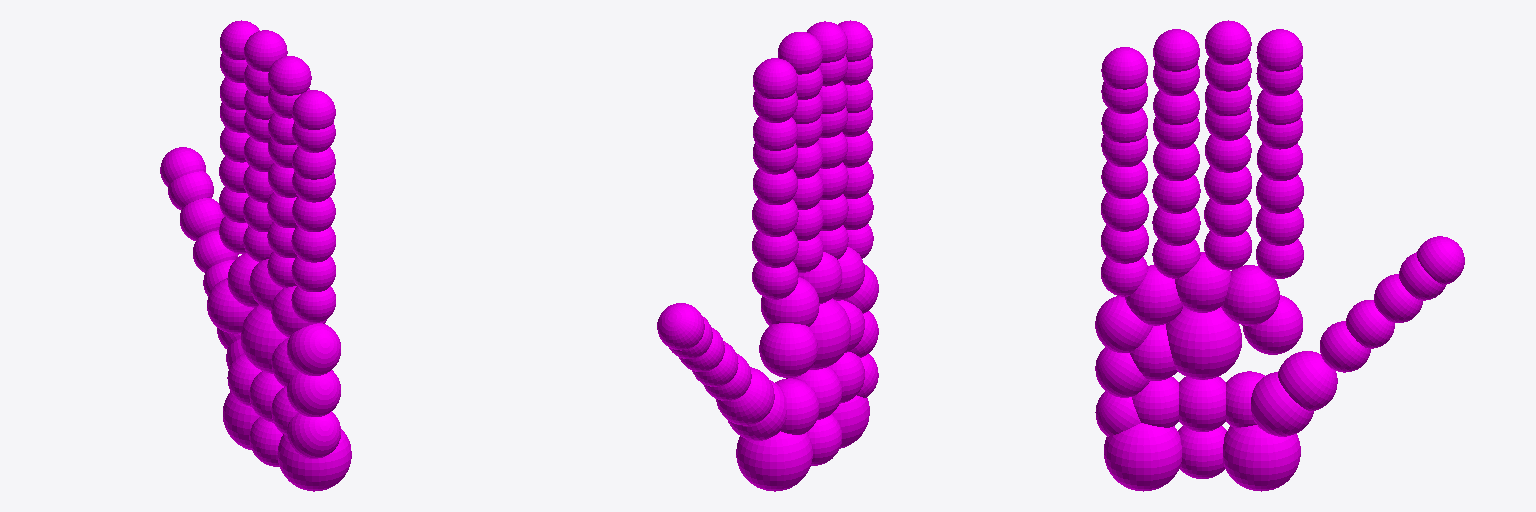
--- What the picture shows (computed from the rendered views, not written in the file) ---
3 views of the same robot in one strip: view 1: azimuth 30°, elevation 25°; view 2: azimuth 150°, elevation 25°; view 3: azimuth 270°, elevation 25° (orthographic).
Model shadow_right with 91 links and 90 joints (25 revolute, 3 prismatic, 62 fixed), rooted at base_link_x, posed all joints at 0.
Visible links, largest first — view 1: palm_collision_ball_1, lfmetacarpal_collision_ball_2, lfmetacarpal_collision_ball_0, lfmetacarpal_collision_ball_1, palm_collision_ball_2, palm_collision_ball_3, lfdistal_collision_ball_2, rfdistal_collision_ball_2, thdistal_collision_ball_0, mfdistal_collision_ball_2, lfproximal_collision_ball_0, lfproximal_collision_ball_2 (+28 smaller); view 2: palm_collision_ball_0, palm_collision_ball_3, palm_collision_ball_2, thproximal_collision_ball_1, palm_collision_ball_11, thdistal_collision_ball_2, palm_collision_ball_6, ffdistal_collision_ball_2, mfdistal_collision_ball_2, ffproximal_collision_ball_2, ffproximal_collision_ball_0, ffproximal_collision_ball_1 (+28 smaller); view 3: palm_collision_ball_2, palm_collision_ball_1, palm_collision_ball_0, palm_collision_ball_11, thproximal_collision_ball_1, thproximal_collision_ball_0, palm_collision_ball_5, palm_collision_ball_10, palm_collision_ball_9, lfmetacarpal_collision_ball_2, palm_collision_ball_3, palm_collision_ball_4 (+28 smaller).
Link boxes in pixels (<box>): palm_collision_ball_1: <box>277,429,351,491</box>; lfmetacarpal_collision_ball_2: <box>287,323,340,375</box>; lfmetacarpal_collision_ball_0: <box>287,411,340,458</box>; lfmetacarpal_collision_ball_1: <box>287,370,340,416</box>; palm_collision_ball_2: <box>241,305,287,373</box>; palm_collision_ball_3: <box>207,278,253,333</box>; lfdistal_collision_ball_2: <box>292,90,335,129</box>; rfdistal_collision_ball_2: <box>268,56,311,95</box>; thdistal_collision_ball_0: <box>180,198,224,240</box>; mfdistal_collision_ball_2: <box>244,30,287,71</box>; lfproximal_collision_ball_0: <box>291,286,335,322</box>; lfproximal_collision_ball_2: <box>291,226,335,262</box>; palm_collision_ball_0: <box>736,431,812,491</box>; palm_collision_ball_3: <box>759,323,817,377</box>; palm_collision_ball_2: <box>809,298,850,369</box>; thproximal_collision_ball_1: <box>716,367,774,425</box>; palm_collision_ball_11: <box>761,277,819,326</box>; thdistal_collision_ball_2: <box>657,303,704,350</box>; palm_collision_ball_6: <box>775,378,819,434</box>; ffdistal_collision_ball_2: <box>753,58,797,98</box>; mfdistal_collision_ball_2: <box>778,32,822,74</box>; ffproximal_collision_ball_2: <box>752,199,798,236</box>; ffproximal_collision_ball_0: <box>752,261,798,299</box>; ffproximal_collision_ball_1: <box>752,230,798,267</box>; palm_collision_ball_2: <box>1166,307,1241,379</box>; palm_collision_ball_1: <box>1104,423,1181,491</box>; palm_collision_ball_0: <box>1223,425,1300,491</box>; palm_collision_ball_11: <box>1221,265,1279,325</box>; thproximal_collision_ball_1: <box>1278,351,1337,410</box>; thproximal_collision_ball_0: <box>1251,371,1313,436</box>; palm_collision_ball_5: <box>1179,377,1225,431</box>; palm_collision_ball_10: <box>1175,252,1230,312</box>; palm_collision_ball_9: <box>1125,265,1182,325</box>; lfmetacarpal_collision_ball_2: <box>1095,296,1152,352</box>; palm_collision_ball_3: <box>1242,295,1302,354</box>; palm_collision_ball_4: <box>1178,426,1226,478</box>.
Bounding box of the posed robot: 0.0406 × 0.1573 × 0.216 m (x, y, z).
0 mesh visuals loaded from 8 distinct referenced files (none loaded); not drawn: 20 (reference not matched to a file when rendering).

robot.urdf — shadow_right:
<robot name="shadow_right">
  <link name="base_link_x"/>

  <joint name="dummy_x_translation_joint" type="prismatic">
    <parent link="base_link_x"/>
    <child link="base_link_y"/>
    <origin rpy="0 0 0" xyz="0 0 0"/>
    <axis xyz="1 0 0"/>
    <limit effort="300" lower="-10" upper="10" velocity="2.1750"/>
  </joint>

  <link name="base_link_y"/>

  <joint name="dummy_y_translation_joint" type="prismatic">
    <parent link="base_link_y"/>
    <child link="base_link_z"/>
    <origin rpy="0 0 0" xyz="0 0 0"/>
    <axis xyz="0 1 0"/>
    <limit effort="300" lower="-10" upper="10" velocity="2.1750"/>
  </joint>

  <link name="base_link_z"/>

  <joint name="dummy_z_translation_joint" type="prismatic">
    <parent link="base_link_z"/>
    <child link="base_link_roll"/>
    <origin rpy="0 0 0" xyz="0 0 0"/>
    <axis xyz="0 0 1"/>
    <limit effort="300" lower="-10" upper="10" velocity="2.1750"/>
  </joint>

  <link name="base_link_roll"/>

  <joint name="dummy_x_rotation_joint" type="revolute">
    <parent link="base_link_roll"/>
    <child link="base_link_pitch"/>
    <origin rpy="0 0 0" xyz="0 0 0"/>
    <axis xyz="1 0 0"/>
    <limit effort="100.95" velocity="108.48" lower="-6.283185" upper="6.283185"/>
  </joint>

  <link name="base_link_pitch"/>

  <joint name="dummy_y_rotation_joint" type="revolute">
    <parent link="base_link_pitch"/>
    <child link="base_link_yaw"/>
    <origin rpy="0 0 0" xyz="0 0 0"/>
    <axis xyz="0 1 0"/>
    <limit effort="100.95" velocity="108.48" lower="-6.283185" upper="6.283185"/>
  </joint>

  <link name="base_link_yaw"/>

  <joint name="dummy_z_rotation_joint" type="revolute">
    <parent link="base_link_yaw"/>
    <child link="world"/>
    <origin rpy="0 0 0" xyz="0 0 0"/>
    <axis xyz="0 0 1"/>
    <limit effort="100.95" velocity="108.48" lower="-6.283185" upper="6.283185"/>
  </joint>
  
  <link name="world"/>
  <joint name="world_joint" type="fixed">
    <parent link="world"/>
    <child link="palm"/>
    <origin rpy="0.0 0.0 1.57079" xyz="0.0 0.0 0.0"/>
  </joint>

  <link name="palm">
    <inertial>
      <origin rpy="0 0 0" xyz="0 0 0.035"/>
      <mass value="0.3"/>
      <inertia ixx="0.0003581" ixy="0.0" ixz="0.0" iyy="0.0005287" iyz="0.0" izz="0.000191"/>
    </inertial>
    <!-- <visual>
      <origin rpy="0 0 0" xyz="0 0 0"/>
      <geometry name="palm_visual">
        <mesh filename="meshes/visual/palm_E3M5.obj" scale="0.001 0.001 0.001"/>
      </geometry>
    </visual> -->
    <collision>
      <origin rpy="0 0 0" xyz="0.011 0.0085 0.042"/>
      <geometry name="palm_collision_geom">
        <box size="0.062 0.007 0.090"/>
      </geometry>
    </collision>
    <collision>
      <origin rpy="0 0 0" xyz="-0.002 -0.0035 0.042"/>
      <geometry>
        <box size="0.036 0.017 0.090"/>
      </geometry>
    </collision>
    <!-- palm complement below first finger -->
    <collision>
      <origin rpy="0 0 0" xyz="0.029 -0.0035 0.082"/>
      <geometry>
        <box size="0.026 0.017 0.010"/>
      </geometry>
    </collision>
    <collision>
      <origin rpy="0.2 0 0.25" xyz="0.0265 -0.001 0.070"/>
      <geometry>
        <box size="0.026 0.014 0.018"/>
      </geometry>
    </collision>
    <!-- thumb pulp side -->
    <collision>
      <origin rpy="0 0 0" xyz="0.0315 -0.0085 0.005"/>
      <geometry>
        <box size="0.021 0.027 0.016"/>
      </geometry>
    </collision>
    <!-- thumb pulp central -->
    <collision>
      <origin rpy="0 0 -0.48" xyz="0.0125 -0.015 0.013"/>
      <geometry>
        <box size="0.022 0.005 0.032"/>
      </geometry>
    </collision>
    <!-- above middle finger-->
    <collision>
      <origin rpy="0 0 0" xyz="0.011 0 0.089"/>
      <geometry>
        <box size="0.018 0.024 0.004"/>
      </geometry>
    </collision>
    <!-- metacarpal side-->
    <collision>
      <origin rpy="0 0 0" xyz="-0.03 0 0.013"/>
      <geometry>
        <box size="0.020 0.024 0.032"/>
      </geometry>
    </collision>
  </link>

  <!-- balls -->

  <link name="palm_collision_ball_0">
    <visual>
    <geometry>
    <sphere radius="0.017"/>
    </geometry>
    <material name="purple">
    <color rgba="1.0 0.0 1.0 1.0"/>
    </material>
    </visual>
    <collision>
    <geometry>
    <sphere radius="0.017"/>
    </geometry>
    </collision>
  </link>
  <joint name="palm_collision_ball_0_joint" type="fixed">
    <parent link="palm"/>
    <child link="palm_collision_ball_0"/>
    <origin rpy="0 0 0" xyz="0.025 -0.005 0.005 "/>
  </joint>

  <link name="palm_collision_ball_1">
    <visual>
    <geometry>
    <sphere radius="0.017"/>
    </geometry>
    <material name="purple">
    <color rgba="1.0 0.0 1.0 1.0"/>
    </material>
    </visual>
    <collision>
    <geometry>
    <sphere radius="0.017"/>
    </geometry>
    </collision>
  </link>
  <joint name="palm_collision_ball_1_joint" type="fixed">
    <parent link="palm"/>
    <child link="palm_collision_ball_1"/>
    <origin rpy="0 0 0" xyz="-0.025 -0.005 0.005 "/>
  </joint>

  <link name="palm_collision_ball_2">
    <visual>
    <geometry>
    <sphere radius="0.017"/>
    </geometry>
    <material name="purple">
    <color rgba="1.0 0.0 1.0 1.0"/>
    </material>
    </visual>
    <collision>
    <geometry>
    <sphere radius="0.017"/>
    </geometry>
    </collision>
  </link>
  <joint name="palm_collision_ball_2_joint" type="fixed">
    <parent link="palm"/>
    <child link="palm_collision_ball_2"/>
    <origin rpy="0 0 0" xyz="0.0 0.0 0.055 "/>
  </joint> 

  <link name="palm_collision_ball_3">
    <visual>
    <geometry>
    <sphere radius="0.013"/>
    </geometry>
    <material name="purple">
    <color rgba="1.0 0.0 1.0 1.0"/>
    </material>
    </visual>
    <collision>
    <geometry>
    <sphere radius="0.013"/>
    </geometry>
    </collision>
  </link>
  <joint name="palm_collision_ball_3_joint" type="fixed">
    <parent link="palm"/>
    <child link="palm_collision_ball_3"/>
    <origin rpy="0 0 0" xyz="0.03 0.005 0.06 "/>
  </joint>

  <link name="palm_collision_ball_4">
    <visual>
    <geometry>
    <sphere radius="0.013"/>
    </geometry>
    <material name="purple">
    <color rgba="1.0 0.0 1.0 1.0"/>
    </material>
    </visual>
    <collision>
    <geometry>
    <sphere radius="0.013"/>
    </geometry>
    </collision>
  </link>
  <joint name="palm_collision_ball_4_joint" type="fixed">
    <parent link="palm"/>
    <child link="palm_collision_ball_4"/>
    <origin rpy="0 0 0" xyz="0.0 0.0 0.004 "/>
  </joint>

  <link name="palm_collision_ball_5">
    <visual>
    <geometry>
    <sphere radius="0.013"/>
    </geometry>
    <material name="purple">
    <color rgba="1.0 0.0 1.0 1.0"/>
    </material>
    </visual>
    <collision>
    <geometry>
    <sphere radius="0.013"/>
    </geometry>
    </collision>
  </link>
  <joint name="palm_collision_ball_5_joint" type="fixed">
    <parent link="palm"/>
    <child link="palm_collision_ball_5"/>
    <origin rpy="0 0 0" xyz="0.0 0.0 0.026 "/>
  </joint>

  <link name="palm_collision_ball_6">
    <visual>
    <geometry>
    <sphere radius="0.013"/>
    </geometry>
    <material name="purple">
    <color rgba="1.0 0.0 1.0 1.0"/>
    </material>
    </visual>
    <collision>
    <geometry>
    <sphere radius="0.013"/>
    </geometry>
    </collision>
  </link>
  <joint name="palm_collision_ball_6_joint" type="fixed">
    <parent link="palm"/>
    <child link="palm_collision_ball_6"/>
    <origin rpy="0 0 0" xyz="0.02 0.0 0.026 "/>
  </joint>

  <link name="palm_collision_ball_7">
    <visual>
    <geometry>
    <sphere radius="0.013"/>
    </geometry>
    <material name="purple">
    <color rgba="1.0 0.0 1.0 1.0"/>
    </material>
    </visual>
    <collision>
    <geometry>
    <sphere radius="0.013"/>
    </geometry>
    </collision>
  </link>
  <joint name="palm_collision_ball_7_joint" type="fixed">
    <parent link="palm"/>
    <child link="palm_collision_ball_7"/>
    <origin rpy="0 0 0" xyz="-0.02 0.0 0.026 "/>
  </joint>

  <link name="palm_collision_ball_8">
    <visual>
    <geometry>
    <sphere radius="0.013"/>
    </geometry>
    <material name="purple">
    <color rgba="1.0 0.0 1.0 1.0"/>
    </material>
    </visual>
    <collision>
    <geometry>
    <sphere radius="0.013"/>
    </geometry>
    </collision>
  </link>
  <joint name="palm_collision_ball_8_joint" type="fixed">
    <parent link="palm"/>
    <child link="palm_collision_ball_8"/>
    <origin rpy="0 0 0" xyz="-0.02 0.0 0.05"/>
  </joint>

  <link name="palm_collision_ball_9">
    <visual>
    <geometry>
    <sphere radius="0.013"/>
    </geometry>
    <material name="purple">
    <color rgba="1.0 0.0 1.0 1.0"/>
    </material>
    </visual>
    <collision>
    <geometry>
    <sphere radius="0.013"/>
    </geometry>
    </collision>
  </link>
  <joint name="palm_collision_ball_9_joint" type="fixed">
    <parent link="palm"/>
    <child link="palm_collision_ball_9"/>
    <origin rpy="0 0 0" xyz="-0.02 0.0 0.076"/>
  </joint>

  <link name="palm_collision_ball_10">
    <visual>
    <geometry>
    <sphere radius="0.013"/>
    </geometry>
    <material name="purple">
    <color rgba="1.0 0.0 1.0 1.0"/>
    </material>
    </visual>
    <collision>
    <geometry>
    <sphere radius="0.013"/>
    </geometry>
    </collision>
  </link>
  <joint name="palm_collision_ball_10_joint" type="fixed">
    <parent link="palm"/>
    <child link="palm_collision_ball_10"/>
    <origin rpy="0 0 0" xyz="0.0 0.0 0.082"/>
  </joint>

  <link name="palm_collision_ball_11">
    <visual>
    <geometry>
    <sphere radius="0.013"/>
    </geometry>
    <material name="purple">
    <color rgba="1.0 0.0 1.0 1.0"/>
    </material>
    </visual>
    <collision>
    <geometry>
    <sphere radius="0.013"/>
    </geometry>
    </collision>
  </link>
  <joint name="palm_collision_ball_11_joint" type="fixed">
    <parent link="palm"/>
    <child link="palm_collision_ball_11"/>
    <origin rpy="0 0 0" xyz="0.02 0.0 0.076"/>
  </joint>

  <joint name="ee_fixed_joint" type="fixed">
    <parent link="palm"/>
    <child link="ee_link"/>
    <origin rpy="0.0 0.0 -1.57079" xyz="0.0 0.0 0.0"/>
  </joint>
  <link name="ee_link"/>
  
  <link name="imu"/>
  <joint name="palm_to_imu" type="fixed">
    <parent link="palm"/>
    <child link="imu"/>
    <origin rpy="-1.5707963 3.141592 0.0" xyz="0.01785 0.00765 0.049125"/>
  </joint>
  <link name="ffknuckle">
    <inertial>
      <origin rpy="0 0 0" xyz="0 0 0"/>
      <mass value="0.008"/>
      <inertia ixx="0.00000026" ixy="0.0" ixz="0.0" iyy="0.00000026" iyz="0.0" izz="0.00000032"/>
    </inertial>
    <visual>
      <origin rpy="0 0 0" xyz="0 0 0.0005"/>
      <geometry name="ffknuckle_visual">
        <mesh filename="meshes/visual/f_knuckle_E3M5.obj" scale="0.001 0.001 0.001"/>
      </geometry>
    </visual>
    <collision>
      <geometry name="ffknuckle_visual">
        <mesh filename="meshes/collision/f_knuckle_E3M5.obj"/>
      </geometry>
    </collision>
  </link>
  <joint name="FFJ4" type="revolute">
    <parent link="palm"/>
    <child link="ffknuckle"/>
    <origin rpy="0 0 0" xyz="0.033 0 0.095"/>
    <axis xyz="0 -1 0"/>
    <limit effort="2" lower="-0.349065850399" upper="0.349065850399" velocity="2.0"/>
    <dynamics damping="0.1"/>
  </joint>
  <link name="ffproximal">
    <inertial>
      <mass value="0.030"/>
      <origin xyz="0 0 0.0225"/>
      <inertia ixx="0.0000098" ixy="0.0" ixz="0.0" iyy="0.00001" iyz="0.0" izz="0.0000018"/>
    </inertial>
    <visual>
      <origin rpy="0 0 0" xyz="0 0 0"/>
      <geometry name="ffproximal_visual">
        <mesh filename="meshes/visual/f_proximal_E3M5.obj" scale="0.001 0.001 0.001"/>
      </geometry>
    </visual>
    <collision>
      <origin rpy="0 0 0" xyz="0 0 0.025"/>
      <geometry name="ffproximal_collision_geom">
        <cylinder length="0.040" radius="0.007"/>
      </geometry>
    </collision>
  </link>

  <!-- balls -->

  <link name="ffproximal_collision_ball_0">
    <visual>
    <geometry>
    <sphere radius="0.0103"/>
    </geometry>
    <material name="purple">
    <color rgba="1.0 0.0 1.0 1.0"/>
    </material>
    </visual>
    <collision>
    <geometry>
    <sphere radius="0.0103"/>
    </geometry>
    </collision>
  </link>
  <joint name="ffproximal_collision_ball_0_joint" type="fixed">
    <parent link="ffproximal"/>
    <child link="ffproximal_collision_ball_0"/>
    <origin rpy="0 0 0" xyz="0.0 0.0 0.0 "/>
  </joint>

  <link name="ffproximal_collision_ball_1">
    <visual>
    <geometry>
    <sphere radius="0.0103"/>
    </geometry>
    <material name="purple">
    <color rgba="1.0 0.0 1.0 1.0"/>
    </material>
    </visual>
    <collision>
    <geometry>
    <sphere radius="0.0103"/>
    </geometry>
    </collision>
  </link>
  <joint name="ffproximal_collision_ball_1_joint" type="fixed">
    <parent link="ffproximal"/>
    <child link="ffproximal_collision_ball_1"/>
    <origin rpy="0 0 0" xyz="0.0 0.0 0.015 "/>
  </joint>

  <link name="ffproximal_collision_ball_2">
    <visual>
    <geometry>
    <sphere radius="0.0103"/>
    </geometry>
    <material name="purple">
    <color rgba="1.0 0.0 1.0 1.0"/>
    </material>
    </visual>
    <collision>
    <geometry>
    <sphere radius="0.0103"/>
    </geometry>
    </collision>
  </link>
  <joint name="ffproximal_collision_ball_2_joint" type="fixed">
    <parent link="ffproximal"/>
    <child link="ffproximal_collision_ball_2"/>
    <origin rpy="0 0 0" xyz="0.0 0.0 0.03 "/>
  </joint>

  <joint name="FFJ3" type="revolute">
    <parent link="ffknuckle"/>
    <child link="ffproximal"/>
    <origin rpy="0 0 0" xyz="0 0 0"/>
    <axis xyz="1 0 0"/>
    <limit effort="2" lower="-0.261799387799" upper="1.57079632679" velocity="2.0"/>
    <dynamics damping="0.1"/>
  </joint>
  <link name="ffmiddle">
    <inertial>
      <origin rpy="0 0 0" xyz="0 0 0.0125"/>
      <mass value="0.017"/>
      <inertia ixx="0.0000026" ixy="0.0" ixz="0.0" iyy="0.0000027" iyz="0.0" izz="0.00000087"/>
    </inertial>
    <visual>
      <origin rpy="0 0 0" xyz="0 0 0"/>
      <geometry name="ffmiddle_visual">
        <mesh filename="meshes/visual/f_middle_E3M5.obj" scale="0.001 0.001 0.001"/>
      </geometry>
    </visual>
    <collision>
      <origin rpy="0 0 0" xyz="0 0 0.0125"/>
      <geometry name="ffmiddle_collision_geom">
        <cylinder length="0.025" radius="0.007"/>
      </geometry>
    </collision>
    <collision>
      <origin rpy="0 0 0" xyz="0 0 0.0"/>
      <geometry>
        <sphere radius="0.007"/>
      </geometry>
    </collision>
    <collision>
      <origin rpy="0 0 0" xyz="0 0 0.025"/>
      <geometry>
        <sphere radius="0.007"/>
      </geometry>
    </collision>
  </link>

  <!-- balls -->

  <link name="ffmiddle_collision_ball_0">
    <visual>
    <geometry>
    <sphere radius="0.010"/>
    </geometry>
    <material name="purple">
    <color rgba="1.0 0.0 1.0 1.0"/>
    </material>
    </visual>
    <collision>
    <geometry>
    <sphere radius="0.010"/>
    </geometry>
    </collision>
  </link>
  <joint name="ffmiddle_collision_ball_0_joint" type="fixed">
    <parent link="ffmiddle"/>
    <child link="ffmiddle_collision_ball_0"/>
    <origin rpy="0 0 0" xyz="0.0 0.0 0.0 "/>
  </joint>

  <link name="ffmiddle_collision_ball_1">
    <visual>
    <geometry>
    <sphere radius="0.010"/>
    </geometry>
    <material name="purple">
    <color rgba="1.0 0.0 1.0 1.0"/>
    </material>
    </visual>
    <collision>
    <geometry>
    <sphere radius="0.010"/>
    </geometry>
    </collision>
  </link>
  <joint name="ffmiddle_collision_ball_1_joint" type="fixed">
    <parent link="ffmiddle"/>
    <child link="ffmiddle_collision_ball_1"/>
    <origin rpy="0 0 0" xyz="0.0 0.0 0.015 "/>
  </joint>

  <joint name="FFJ2" type="revolute">
    <parent link="ffproximal"/>
    <child link="ffmiddle"/>
    <origin rpy="0 0 0" xyz="0 0 0.045"/>
    <axis xyz="1 0 0"/>
    <limit effort="2" lower="0" upper="1.57079632679" velocity="2.0"/>
    <dynamics damping="0.1"/>
  </joint>
  <link name="ffdistal">
    <!--    inertial and mass is enlarged by 10 times to fix the position drive issue in Physx simulation, used in IsaacGym and SAPIEN-->
    <inertial>
      <mass value="0.12"/>
      <origin xyz="0 0 0.012"/>
      <inertia ixx="0.0000094" ixy="0.0" ixz="0.0" iyy="0.000011" iyz="0.0" izz="0.0000053"/>
    </inertial>
    <visual>
      <origin rpy="0 0 0" xyz="0 0 0"/>
      <geometry name="ffdistal_visual">
        <mesh filename="meshes/visual/f_distal_pst.obj" scale="0.001 0.001 0.001"/>
      </geometry>
    </visual>
    <collision>
      <origin rpy="0 0 0" xyz="0 0 0"/>
      <geometry name="ffdistal_collision_geom">
        <mesh filename="meshes/visual/f_distal_pst.obj" scale="0.001 0.001 0.001"/>
      </geometry>
    </collision>
  </link>

  <!-- balls -->

  <link name="ffdistal_collision_ball_0">
    <visual>
    <geometry>
    <sphere radius="0.010"/>
    </geometry>
    <material name="purple">
    <color rgba="1.0 0.0 1.0 1.0"/>
    </material>
    </visual>
    <collision>
    <geometry>
    <sphere radius="0.010"/>
    </geometry>
    </collision>
  </link>
  <joint name="ffdistal_collision_ball_0_joint" type="fixed">
    <parent link="ffdistal"/>
    <child link="ffdistal_collision_ball_0"/>
    <origin rpy="0 0 0" xyz="0.0 0.0 0.0 "/>
  </joint>

  <link name="ffdistal_collision_ball_1">
    <visual>
    <geometry>
    <sphere radius="0.010"/>
    </geometry>
    <material name="purple">
    <color rgba="1.0 0.0 1.0 1.0"/>
    </material>
    </visual>
    <collision>
    <geometry>
    <sphere radius="0.010"/>
    </geometry>
    </collision>
  </link>
  <joint name="ffdistal_collision_ball_1_joint" type="fixed">
    <parent link="ffdistal"/>
    <child link="ffdistal_collision_ball_1"/>
    <origin rpy="0 0 0" xyz="0.0 0.0 0.015 "/>
  </joint>

  <link name="ffdistal_collision_ball_2">
    <visual>
    <geometry>
    <sphere radius="0.010"/>
    </geometry>
    <material name="purple">
    <color rgba="1.0 0.0 1.0 1.0"/>
    </material>
    </visual>
    <collision>
    <geometry>
    <sphere radius="0.010"/>
    </geometry>
    </collision>
  </link>
  <joint name="ffdistal_collision_ball_2_joint" type="fixed">
    <parent link="ffdistal"/>
    <child link="ffdistal_collision_ball_2"/>
    <origin rpy="0 0 0" xyz="0.0 0.0 0.025 "/>
  </joint>

  <joint name="FFJ1" type="revolute">
    <parent link="ffmiddle"/>
    <child link="ffdistal"/>
    <origin rpy="0 0 0" xyz="0 0 0.025"/>
    <axis xyz="1 0 0"/>
    <!-- standard distal joint -->
    <limit effort="2" lower="0" upper="1.57079632679" velocity="2.0"/>
    <dynamics damping="0.1"/>
  </joint>
  <link name="fftip">
    <inertial>
      <mass value="0.001"/>
      <inertia ixx="0.0" ixy="0.0" ixz="0.0" iyy="0.0" iyz="0.0" izz="0.0"/>
    </inertial>
  </link>
  <joint name="FFtip" type="fixed">
    <parent link="ffdistal"/>
    <child link="fftip"/>
    <origin rpy="0 0 0" xyz="0 0 0.026"/>
  </joint>
  <link name="mfknuckle">
    <inertial>
      <origin rpy="0 0 0" xyz="0 0 0"/>
      <mass value="0.008"/>
      <inertia ixx="0.00000026" ixy="0.0" ixz="0.0" iyy="0.00000026" iyz="0.0" izz="0.00000032"/>
    </inertial>
    <visual>
      <origin rpy="0 0 0" xyz="0 0 0.0005"/>
      <geometry name="mfknuckle_visual">
        <mesh filename="meshes/visual/f_knuckle_E3M5.obj" scale="0.001 0.001 0.001"/>
      </geometry>
    </visual>
    <collision>
      <geometry name="ffknuckle_visual">
        <mesh filename="meshes/collision/f_knuckle_E3M5.obj"/>
      </geometry>
    </collision>
  </link>
  <joint name="MFJ4" type="revolute">
    <parent link="palm"/>
    <child link="mfknuckle"/>
    <!--<origin xyz="0.033 0 0.095" rpy="0 0 0" />-->
    <origin rpy="0 0 0" xyz="0.011 0 0.099"/>
    <axis xyz="0 -1 0"/>
    <limit effort="2" lower="-0.349065850399" upper="0.349065850399" velocity="2.0"/>
    <dynamics damping="0.1"/>
  </joint>
  <link name="mfproximal">
    <inertial>
      <mass value="0.030"/>
      <origin xyz="0 0 0.0225"/>
      <inertia ixx="0.0000098" ixy="0.0" ixz="0.0" iyy="0.00001" iyz="0.0" izz="0.0000018"/>
    </inertial>
    <visual>
      <origin rpy="0 0 0" xyz="0 0 0"/>
      <geometry name="mfproximal_visual">
        <mesh filename="meshes/visual/f_proximal_E3M5.obj" scale="0.001 0.001 0.001"/>
      </geometry>
    </visual>
    <collision>
      <origin rpy="0 0 0" xyz="0 0 0.025"/>
      <geometry name="mfproximal_collision_geom">
        <cylinder length="0.040" radius="0.007"/>
      </geometry>
    </collision>
  </link>

  <!-- balls -->

  <link name="mfproximal_collision_ball_0">
    <visual>
    <geometry>
    <sphere radius="0.0103"/>
    </geometry>
    <material name="purple">
    <color rgba="1.0 0.0 1.0 1.0"/>
    </material>
    </visual>
    <collision>
    <geometry>
    <sphere radius="0.0103"/>
    </geometry>
    </collision>
  </link>
  <joint name="mfproximal_collision_ball_0_joint" type="fixed">
    <parent link="mfproximal"/>
    <child link="mfproximal_collision_ball_0"/>
    <origin rpy="0 0 0" xyz="0.0 0.0 0.0 "/>
  </joint>

  <link name="mfproximal_collision_ball_1">
    <visual>
    <geometry>
    <sphere radius="0.0103"/>
    </geometry>
    <material name="purple">
    <color rgba="1.0 0.0 1.0 1.0"/>
    </material>
    </visual>
    <collision>
    <geometry>
    <sphere radius="0.0103"/>
    </geometry>
    </collision>
  </link>
  <joint name="mfproximal_collision_ball_1_joint" type="fixed">
    <parent link="mfproximal"/>
    <child link="mfproximal_collision_ball_1"/>
    <origin rpy="0 0 0" xyz="0.0 0.0 0.015 "/>
  </joint>

  <link name="mfproximal_collision_ball_2">
    <visual>
    <geometry>
    <sphere radius="0.0103"/>
    </geometry>
    <material name="purple">
    <color rgba="1.0 0.0 1.0 1.0"/>
    </material>
    </visual>
    <collision>
    <geometry>
    <sphere radius="0.0103"/>
    </geometry>
    </collision>
  </link>
  <joint name="mfproximal_collision_ball_2_joint" type="fixed">
    <parent link="mfproximal"/>
    <child link="mfproximal_collision_ball_2"/>
    <origin rpy="0 0 0" xyz="0.0 0.0 0.03 "/>
  </joint>

  <joint name="MFJ3" type="revolute">
    <parent link="mfknuckle"/>
    <child link="mfproximal"/>
    <origin rpy="0 0 0" xyz="0 0 0"/>
    <axis xyz="1 0 0"/>
    <limit effort="2" lower="-0.261799387799" upper="1.57079632679" velocity="2.0"/>
    <dynamics damping="0.1"/>
  </joint>
  <link name="mfmiddle">
    <inertial>
      <origin rpy="0 0 0" xyz="0 0 0.0125"/>
      <mass value="0.017"/>
      <inertia ixx="0.0000026" ixy="0.0" ixz="0.0" iyy="0.0000027" iyz="0.0" izz="0.00000087"/>
    </inertial>
    <visual>
      <origin rpy="0 0 0" xyz="0 0 0"/>
      <geometry name="mfmiddle_visual">
        <mesh filename="meshes/visual/f_middle_E3M5.obj" scale="0.001 0.001 0.001"/>
      </geometry>
    </visual>
    <collision>
      <origin rpy="0 0 0" xyz="0 0 0.0125"/>
      <geometry name="mfmiddle_collision_geom">
        <cylinder length="0.025" radius="0.007"/>
      </geometry>
    </collision>
    <collision>
      <origin rpy="0 0 0" xyz="0 0 0.0"/>
      <geometry>
        <sphere radius="0.007"/>
      </geometry>
    </collision>
    <collision>
      <origin rpy="0 0 0" xyz="0 0 0.025"/>
      <geometry>
        <sphere radius="0.007"/>
      </geometry>
    </collision>
  </link>

  <!-- balls -->

  <link name="mfmiddle_collision_ball_0">
    <visual>
    <geometry>
    <sphere radius="0.010"/>
    </geometry>
    <material name="purple">
    <color rgba="1.0 0.0 1.0 1.0"/>
    </material>
    </visual>
    <collision>
    <geometry>
    <sphere radius="0.010"/>
    </geometry>
    </collision>
  </link>
  <joint name="mfmiddle_collision_ball_0_joint" type="fixed">
    <parent link="mfmiddle"/>
    <child link="mfmiddle_collision_ball_0"/>
    <origin rpy="0 0 0" xyz="0.0 0.0 0.0 "/>
  </joint>

  <link name="mfmiddle_collision_ball_1">
    <visual>
    <geometry>
    <sphere radius="0.010"/>
    </geometry>
    <material name="purple">
    <color rgba="1.0 0.0 1.0 1.0"/>
    </material>
    </visual>
    <collision>
    <geometry>
    <sphere radius="0.010"/>
    </geometry>
    </collision>
  </link>
  <joint name="mfmiddle_collision_ball_1_joint" type="fixed">
    <parent link="mfmiddle"/>
    <child link="mfmiddle_collision_ball_1"/>
    <origin rpy="0 0 0" xyz="0.0 0.0 0.015 "/>
  </joint>

  <joint name="MFJ2" type="revolute">
    <parent link="mfproximal"/>
    <child link="mfmiddle"/>
    <origin rpy="0 0 0" xyz="0 0 0.045"/>
    <axis xyz="1 0 0"/>
    <limit effort="2" lower="0" upper="1.57079632679" velocity="2.0"/>
    <dynamics damping="0.1"/>
  </joint>
  <link name="mfdistal">
    <!--    inertial and mass is enlarged by 10 times to fix the position drive issue in Physx simulation, used in IsaacGym and SAPIEN-->
    <inertial>
      <mass value="0.12"/>
      <origin xyz="0 0 0.012"/>
      <inertia ixx="0.0000094" ixy="0.0" ixz="0.0" iyy="0.000011" iyz="0.0" izz="0.0000053"/>
    </inertial>
    <visual>
      <origin rpy="0 0 0" xyz="0 0 0"/>
      <geometry name="mfdistal_visual">
        <mesh filename="meshes/visual/f_distal_pst.obj" scale="0.001 0.001 0.001"/>
      </geometry>
    </visual>
    <collision>
      <origin rpy="0 0 0" xyz="0 0 0"/>
      <geometry name="mfdistal_collision_geom">
        <mesh filename="meshes/collision/f_distal_pst.obj" scale="0.001 0.001 0.001"/>
      </geometry>
    </collision>
  </link>

  <!-- balls -->

  <link name="mfdistal_collision_ball_0">
    <visual>
    <geometry>
    <sphere radius="0.010"/>
    </geometry>
    <material name="purple">
    <color rgba="1.0 0.0 1.0 1.0"/>
    </material>
    </visual>
    <collision>
    <geometry>
    <sphere radius="0.010"/>
    </geometry>
    </collision>
  </link>
  <joint name="mfdistal_collision_ball_0_joint" type="fixed">
    <parent link="mfdistal"/>
    <child link="mfdistal_collision_ball_0"/>
    <origin rpy="0 0 0" xyz="0.0 0.0 0.0 "/>
  </joint>

  <link name="mfdistal_collision_ball_1">
    <visual>
    <geometry>
    <sphere radius="0.010"/>
    </geometry>
    <material name="purple">
    <color rgba="1.0 0.0 1.0 1.0"/>
    </material>
    </visual>
    <collision>
    <geometry>
    <sphere radius="0.010"/>
    </geometry>
    </collision>
  </link>
  <joint name="mfdistal_collision_ball_1_joint" type="fixed">
    <parent link="mfdistal"/>
    <child link="mfdistal_collision_ball_1"/>
    <origin rpy="0 0 0" xyz="0.0 0.0 0.0125 "/>
  </joint>

  <link name="mfdistal_collision_ball_2">
    <visual>
    <geometry>
    <sphere radius="0.010"/>
    </geometry>
    <material name="purple">
    <color rgba="1.0 0.0 1.0 1.0"/>
    </material>
    </visual>
    <collision>
    <geometry>
    <sphere radius="0.010"/>
    </geometry>
    </collision>
  </link>
  <joint name="mfdistal_collision_ball_2_joint" type="fixed">
    <parent link="mfdistal"/>
    <child link="mfdistal_collision_ball_2"/>
    <origin rpy="0 0 0" xyz="0.0 0.0 0.025 "/>
  </joint>

  <joint name="MFJ1" type="revolute">
    <parent link="mfmiddle"/>
    <child link="mfdistal"/>
    <origin rpy="0 0 0" xyz="0 0 0.025"/>
    <axis xyz="1 0 0"/>
    <!-- standard distal joint -->
    <limit effort="2" lower="0" upper="1.57079632679" velocity="2.0"/>
    <dynamics damping="0.1"/>
  </joint>
  <link name="mftip">
    <inertial>
      <mass value="0.001"/>
      <inertia ixx="0.0" ixy="0.0" ixz="0.0" iyy="0.0" iyz="0.0" izz="0.0"/>
    </inertial>
  </link>
  <joint name="MFtip" type="fixed">
    <parent link="mfdistal"/>
    <child link="mftip"/>
    <origin rpy="0 0 0" xyz="0 0 0.026"/>
  </joint>
  <link name="rfknuckle">
    <inertial>
      <origin rpy="0 0 0" xyz="0 0 0"/>
      <mass value="0.008"/>
      <inertia ixx="0.00000026" ixy="0.0" ixz="0.0" iyy="0.00000026" iyz="0.0" izz="0.00000032"/>
    </inertial>
    <visual>
      <origin rpy="0 0 0" xyz="0 0 0.0005"/>
      <geometry name="rfknuckle_visual">
        <mesh filename="meshes/visual/f_knuckle_E3M5.obj" scale="0.001 0.001 0.001"/>
      </geometry>
    </visual>
    <collision>
      <geometry name="ffknuckle_visual">
        <mesh filename="meshes/collision/f_knuckle_E3M5.obj"/>
      </geometry>
    </collision>
  </link>
  <joint name="RFJ4" type="revolute">
    <parent link="palm"/>
    <child link="rfknuckle"/>
    <!--<origin xyz="0.033 0 0.095" rpy="0 0 0" />-->
    <origin rpy="0 0 0" xyz="-0.011 0 0.095"/>
    <axis xyz="0 1 0"/>
    <limit effort="2" lower="-0.349065850399" upper="0.349065850399" velocity="2.0"/>
    <dynamics damping="0.1"/>
  </joint>
  <link name="rfproximal">
    <inertial>
      <mass value="0.030"/>
      <origin xyz="0 0 0.0225"/>
      <inertia ixx="0.0000098" ixy="0.0" ixz="0.0" iyy="0.00001" iyz="0.0" izz="0.0000018"/>
    </inertial>
    <visual>
      <origin rpy="0 0 0" xyz="0 0 0"/>
      <geometry name="rfproximal_visual">
        <mesh filename="meshes/visual/f_proximal_E3M5.obj" scale="0.001 0.001 0.001"/>
      </geometry>
    </visual>
    <collision>
      <origin rpy="0 0 0" xyz="0 0 0.025"/>
      <geometry name="rfproximal_collision_geom">
        <cylinder length="0.040" radius="0.007"/>
      </geometry>
    </collision>
  </link>

  <!-- balls -->

  <link name="rfproximal_collision_ball_0">
    <visual>
    <geometry>
    <sphere radius="0.0103"/>
    </geometry>
    <material name="purple">
    <color rgba="1.0 0.0 1.0 1.0"/>
    </material>
    </visual>
    <collision>
    <geometry>
    <sphere radius="0.0103"/>
    </geometry>
    </collision>
  </link>
  <joint name="rfproximal_collision_ball_0_joint" type="fixed">
    <parent link="rfproximal"/>
    <child link="rfproximal_collision_ball_0"/>
    <origin rpy="0 0 0" xyz="0.0 0.0 0.0 "/>
  </joint>

  <link name="rfproximal_collision_ball_1">
    <visual>
    <geometry>
    <sphere radius="0.0103"/>
    </geometry>
    <material name="purple">
    <color rgba="1.0 0.0 1.0 1.0"/>
    </material>
    </visual>
    <collision>
    <geometry>
    <sphere radius="0.0103"/>
    </geometry>
    </collision>
  </link>
  <joint name="rfproximal_collision_ball_1_joint" type="fixed">
    <parent link="rfproximal"/>
    <child link="rfproximal_collision_ball_1"/>
    <origin rpy="0 0 0" xyz="0.0 0.0 0.015 "/>
  </joint>

  <link name="rfproximal_collision_ball_2">
    <visual>
    <geometry>
    <sphere radius="0.0103"/>
    </geometry>
    <material name="purple">
    <color rgba="1.0 0.0 1.0 1.0"/>
    </material>
    </visual>
    <collision>
    <geometry>
    <sphere radius="0.0103"/>
    </geometry>
    </collision>
  </link>
  <joint name="rfproximal_collision_ball_2_joint" type="fixed">
    <parent link="rfproximal"/>
    <child link="rfproximal_collision_ball_2"/>
    <origin rpy="0 0 0" xyz="0.0 0.0 0.03 "/>
  </joint>

  <joint name="RFJ3" type="revolute">
    <parent link="rfknuckle"/>
    <child link="rfproximal"/>
    <origin rpy="0 0 0" xyz="0 0 0"/>
    <axis xyz="1 0 0"/>
    <limit effort="2" lower="-0.261799387799" upper="1.57079632679" velocity="2.0"/>
    <dynamics damping="0.1"/>
  </joint>
  <link name="rfmiddle">
    <inertial>
      <origin rpy="0 0 0" xyz="0 0 0.0125"/>
      <mass value="0.017"/>
      <inertia ixx="0.0000026" ixy="0.0" ixz="0.0" iyy="0.0000027" iyz="0.0" izz="0.00000087"/>
    </inertial>
    <visual>
      <origin rpy="0 0 0" xyz="0 0 0"/>
      <geometry name="rfmiddle_visual">
        <mesh filename="meshes/visual/f_middle_E3M5.obj" scale="0.001 0.001 0.001"/>
      </geometry>
    </visual>
    <collision>
      <origin rpy="0 0 0" xyz="0 0 0.0125"/>
      <geometry name="rfmiddle_collision_geom">
        <cylinder length="0.025" radius="0.007"/>
      </geometry>
    </collision>
    <collision>
      <origin rpy="0 0 0" xyz="0 0 0.0"/>
      <geometry>
        <sphere radius="0.007"/>
      </geometry>
    </collision>
    <collision>
      <origin rpy="0 0 0" xyz="0 0 0.025"/>
      <geometry>
        <sphere radius="0.007"/>
      </geometry>
    </collision>
  </link>

  <!-- balls -->

  <link name="rfmiddle_collision_ball_0">
    <visual>
    <geometry>
    <sphere radius="0.010"/>
    </geometry>
    <material name="purple">
    <color rgba="1.0 0.0 1.0 1.0"/>
    </material>
    </visual>
    <collision>
    <geometry>
    <sphere radius="0.010"/>
    </geometry>
    </collision>
  </link>
  <joint name="rfmiddle_collision_ball_0_joint" type="fixed">
    <parent link="rfmiddle"/>
    <child link="rfmiddle_collision_ball_0"/>
    <origin rpy="0 0 0" xyz="0.0 0.0 0.0 "/>
  </joint>

  <link name="rfmiddle_collision_ball_1">
    <visual>
    <geometry>
    <sphere radius="0.010"/>
    </geometry>
    <material name="purple">
    <color rgba="1.0 0.0 1.0 1.0"/>
    </material>
    </visual>
    <collision>
    <geometry>
    <sphere radius="0.010"/>
    </geometry>
    </collision>
  </link>
  <joint name="rfmiddle_collision_ball_1_joint" type="fixed">
    <parent link="rfmiddle"/>
    <child link="rfmiddle_collision_ball_1"/>
    <origin rpy="0 0 0" xyz="0.0 0.0 0.015 "/>
  </joint>

  <joint name="RFJ2" type="revolute">
    <parent link="rfproximal"/>
    <child link="rfmiddle"/>
    <origin rpy="0 0 0" xyz="0 0 0.045"/>
    <axis xyz="1 0 0"/>
    <limit effort="2" lower="0" upper="1.57079632679" velocity="2.0"/>
    <dynamics damping="0.1"/>
  </joint>
  <link name="rfdistal">
    <!--    inertial and mass is enlarged by 10 times to fix the position drive issue in Physx simulation, used in IsaacGym and SAPIEN-->
    <inertial>
      <mass value="0.12"/>
      <origin xyz="0 0 0.012"/>
      <inertia ixx="0.0000094" ixy="0.0" ixz="0.0" iyy="0.000011" iyz="0.0" izz="0.0000053"/>
    </inertial>
    <visual>
      <origin rpy="0 0 0" xyz="0 0 0"/>
      <geometry name="rfdistal_visual">
        <mesh filename="meshes/visual/f_distal_pst.obj" scale="0.001 0.001 0.001"/>
      </geometry>
    </visual>
    <collision>
      <origin rpy="0 0 0" xyz="0 0 0"/>
      <geometry name="rfdistal_collision_geom">
        <mesh filename="meshes/collision/f_distal_pst.obj" scale="0.001 0.001 0.001"/>
      </geometry>
    </collision>
  </link>

  <!-- balls -->

  <link name="rfdistal_collision_ball_0">
    <visual>
    <geometry>
    <sphere radius="0.010"/>
    </geometry>
    <material name="purple">
    <color rgba="1.0 0.0 1.0 1.0"/>
    </material>
    </visual>
    <collision>
    <geometry>
    <sphere radius="0.010"/>
    </geometry>
    </collision>
  </link>
  <joint name="rfdistal_collision_ball_0_joint" type="fixed">
    <parent link="rfdistal"/>
    <child link="rfdistal_collision_ball_0"/>
    <origin rpy="0 0 0" xyz="0.0 0.0 0.0 "/>
  </joint>

  <link name="rfdistal_collision_ball_1">
    <visual>
    <geometry>
    <sphere radius="0.010"/>
    </geometry>
    <material name="purple">
    <color rgba="1.0 0.0 1.0 1.0"/>
    </material>
    </visual>
    <collision>
    <geometry>
    <sphere radius="0.010"/>
    </geometry>
    </collision>
  </link>
  <joint name="rfdistal_collision_ball_1_joint" type="fixed">
    <parent link="rfdistal"/>
    <child link="rfdistal_collision_ball_1"/>
    <origin rpy="0 0 0" xyz="0.0 0.0 0.015 "/>
  </joint>

  <link name="rfdistal_collision_ball_2">
    <visual>
    <geometry>
    <sphere radius="0.010"/>
    </geometry>
    <material name="purple">
    <color rgba="1.0 0.0 1.0 1.0"/>
    </material>
    </visual>
    <collision>
    <geometry>
    <sphere radius="0.010"/>
    </geometry>
    </collision>
  </link>
  <joint name="rfdistal_collision_ball_2_joint" type="fixed">
    <parent link="rfdistal"/>
    <child link="rfdistal_collision_ball_2"/>
    <origin rpy="0 0 0" xyz="0.0 0.0 0.025 "/>
  </joint>

  <joint name="RFJ1" type="revolute">
    <parent link="rfmiddle"/>
    <child link="rfdistal"/>
    <origin rpy="0 0 0" xyz="0 0 0.025"/>
    <axis xyz="1 0 0"/>
    <!-- standard distal joint -->
    <limit effort="2" lower="0" upper="1.57079632679" velocity="2.0"/>
    <dynamics damping="0.1"/>
  </joint>
  <link name="rftip">
    <inertial>
      <mass value="0.001"/>
      <inertia ixx="0.0" ixy="0.0" ixz="0.0" iyy="0.0" iyz="0.0" izz="0.0"/>
    </inertial>
  </link>
  <joint name="RFtip" type="fixed">
    <parent link="rfdistal"/>
    <child link="rftip"/>
    <origin rpy="0 0 0" xyz="0 0 0.026"/>
  </joint>
  <link name="lfmetacarpal">
    <inertial>
      <origin rpy="0 0.9599 0" xyz="0.0317486764706 0 0.0223529411765"/>
      <mass value="0.030"/>
      <inertia ixx="0.0000145" ixy="0.0" ixz="0.0" iyy="0.00001638" iyz="0.0" izz="0.000004272"/>
    </inertial>
    <visual>
      <origin rpy="0 0.9599 0" xyz="0 0 0"/>
      <geometry name="lfmetacarpal_visual">
        <mesh filename="meshes/visual/lf_metacarpal_E3M5.obj" scale="0.001 0.001 0.001"/>
      </geometry>
    </visual>
    <collision>
      <origin rpy="0 0.9599 0" xyz="0.026986375 0 0.019"/>
      <geometry name="lfmetacarpal_collision_geom">
        <box size="0.018 0.024 0.040"/>
      </geometry>
    </collision>
  </link>

  <!-- balls -->

  <link name="lfmetacarpal_collision_ball_0">
    <visual>
    <geometry>
    <sphere radius="0.0125"/>
    </geometry>
    <material name="purple">
    <color rgba="1.0 0.0 1.0 1.0"/>
    </material>
    </visual>
    <collision>
    <geometry>
    <sphere radius="0.0125"/>
    </geometry>
    </collision>
  </link>
  <joint name="lfmetacarpal_collision_ball_0_joint" type="fixed">
    <parent link="lfmetacarpal"/>
    <child link="lfmetacarpal_collision_ball_0"/>
    <origin rpy="0 0 0" xyz="0.0 0.0 0.0 "/>
  </joint>

  <link name="lfmetacarpal_collision_ball_1">
    <visual>
    <geometry>
    <sphere radius="0.0125"/>
    </geometry>
    <material name="purple">
    <color rgba="1.0 0.0 1.0 1.0"/>
    </material>
    </visual>
    <collision>
    <geometry>
    <sphere radius="0.0125"/>
    </geometry>
    </collision>
  </link>
  <joint name="lfmetacarpal_collision_ball_1_joint" type="fixed">
    <parent link="lfmetacarpal"/>
    <child link="lfmetacarpal_collision_ball_1"/>
    <origin rpy="0 0 0" xyz="0.017 0.0 0.012 "/>
  </joint>

  <link name="lfmetacarpal_collision_ball_2">
    <visual>
    <geometry>
    <sphere radius="0.0125"/>
    </geometry>
    <material name="purple">
    <color rgba="1.0 0.0 1.0 1.0"/>
    </material>
    </visual>
    <collision>
    <geometry>
    <sphere radius="0.0125"/>
    </geometry>
    </collision>
  </link>
  <joint name="lfmetacarpal_collision_ball_2_joint" type="fixed">
    <parent link="lfmetacarpal"/>
    <child link="lfmetacarpal_collision_ball_2"/>
    <origin rpy="0 0 0" xyz="0.034 0.0 0.024 "/>
  </joint>

  <joint name="LFJ5" type="revolute">
    <parent link="palm"/>
    <child link="lfmetacarpal"/>
    <origin rpy="0 -0.9599 0" xyz="-0.033 0 0.02071"/>
    <axis xyz="1 0 0"/>
    <limit effort="2" lower="0" upper="0.785398163397" velocity="2.0"/>
    <dynamics damping="0.1"/>
  </joint>
  <link name="lfknuckle">
    <inertial>
      <origin rpy="0 0 0" xyz="0 0 0"/>
      <mass value="0.008"/>
      <inertia ixx="0.00000026" ixy="0.0" ixz="0.0" iyy="0.00000026" iyz="0.0" izz="0.00000032"/>
    </inertial>
    <visual>
      <origin rpy="0 0 0" xyz="0 0 0.0005"/>
      <geometry name="lfknuckle_visual">
        <mesh filename="meshes/visual/f_knuckle_E3M5.obj" scale="0.001 0.001 0.001"/>
      </geometry>
    </visual>
    <collision>
      <geometry name="ffknuckle_visual">
        <mesh filename="meshes/collision/f_knuckle_E3M5.obj"/>
      </geometry>
    </collision>
  </link>
  <joint name="LFJ4" type="revolute">
    <parent link="lfmetacarpal"/>
    <child link="lfknuckle"/>
    <!--<origin xyz="0.033 0 0.095" rpy="0 0 0" />-->
    <origin rpy="0 0.9599 0" xyz="0.05397275 0 0.03779463"/>
    <axis xyz="0 1 0"/>
    <limit effort="2" lower="-0.349065850399" upper="0.349065850399" velocity="2.0"/>
    <dynamics damping="0.1"/>
  </joint>
  <link name="lfproximal">
    <inertial>
      <mass value="0.030"/>
      <origin xyz="0 0 0.0225"/>
      <inertia ixx="0.0000098" ixy="0.0" ixz="0.0" iyy="0.00001" iyz="0.0" izz="0.0000018"/>
    </inertial>
    <visual>
      <origin rpy="0 0 0" xyz="0 0 0"/>
      <geometry name="lfproximal_visual">
        <mesh filename="meshes/visual/f_proximal_E3M5.obj" scale="0.001 0.001 0.001"/>
      </geometry>
    </visual>
    <collision>
      <origin rpy="0 0 0" xyz="0 0 0.025"/>
      <geometry name="lfproximal_collision_geom">
        <cylinder length="0.040" radius="0.007"/>
      </geometry>
    </collision>
  </link>

  <!-- balls -->

  <link name="lfproximal_collision_ball_0">
    <visual>
    <geometry>
    <sphere radius="0.0103"/>
    </geometry>
    <material name="purple">
    <color rgba="1.0 0.0 1.0 1.0"/>
    </material>
    </visual>
    <collision>
    <geometry>
    <sphere radius="0.0103"/>
    </geometry>
    </collision>
  </link>
  <joint name="lfproximal_collision_ball_0_joint" type="fixed">
    <parent link="lfproximal"/>
    <child link="lfproximal_collision_ball_0"/>
    <origin rpy="0 0 0" xyz="0.0 0.0 0.0 "/>
  </joint>

  <link name="lfproximal_collision_ball_1">
    <visual>
    <geometry>
    <sphere radius="0.0103"/>
    </geometry>
    <material name="purple">
    <color rgba="1.0 0.0 1.0 1.0"/>
    </material>
    </visual>
    <collision>
    <geometry>
    <sphere radius="0.0103"/>
    </geometry>
    </collision>
  </link>
  <joint name="lfproximal_collision_ball_1_joint" type="fixed">
    <parent link="lfproximal"/>
    <child link="lfproximal_collision_ball_1"/>
    <origin rpy="0 0 0" xyz="0.0 0.0 0.015 "/>
  </joint>

  <link name="lfproximal_collision_ball_2">
    <visual>
    <geometry>
    <sphere radius="0.0103"/>
    </geometry>
    <material name="purple">
    <color rgba="1.0 0.0 1.0 1.0"/>
    </material>
    </visual>
    <collision>
    <geometry>
    <sphere radius="0.0103"/>
    </geometry>
    </collision>
  </link>
  <joint name="lfproximal_collision_ball_2_joint" type="fixed">
    <parent link="lfproximal"/>
    <child link="lfproximal_collision_ball_2"/>
    <origin rpy="0 0 0" xyz="0.0 0.0 0.03 "/>
  </joint>

  <joint name="LFJ3" type="revolute">
    <parent link="lfknuckle"/>
    <child link="lfproximal"/>
    <origin rpy="0 0 0" xyz="0 0 0"/>
    <axis xyz="1 0 0"/>
    <limit effort="2" lower="-0.261799387799" upper="1.57079632679" velocity="2.0"/>
    <dynamics damping="0.1"/>
  </joint>
  <link name="lfmiddle">
    <inertial>
      <origin rpy="0 0 0" xyz="0 0 0.0125"/>
      <mass value="0.017"/>
      <inertia ixx="0.0000026" ixy="0.0" ixz="0.0" iyy="0.0000027" iyz="0.0" izz="0.00000087"/>
    </inertial>
    <visual>
      <origin rpy="0 0 0" xyz="0 0 0"/>
      <geometry name="lfmiddle_visual">
        <mesh filename="meshes/visual/f_middle_E3M5.obj" scale="0.001 0.001 0.001"/>
      </geometry>
    </visual>
    <collision>
      <origin rpy="0 0 0" xyz="0 0 0.0125"/>
      <geometry name="lfmiddle_collision_geom">
        <cylinder length="0.025" radius="0.007"/>
      </geometry>
    </collision>
    <collision>
      <origin rpy="0 0 0" xyz="0 0 0.0"/>
      <geometry>
        <sphere radius="0.007"/>
      </geometry>
    </collision>
    <collision>
      <origin rpy="0 0 0" xyz="0 0 0.025"/>
      <geometry>
        <sphere radius="0.007"/>
      </geometry>
    </collision>
  </link>

  <!-- balls -->

  <link name="lfmiddle_collision_ball_0">
    <visual>
    <geometry>
    <sphere radius="0.010"/>
    </geometry>
    <material name="purple">
    <color rgba="1.0 0.0 1.0 1.0"/>
    </material>
    </visual>
    <collision>
    <geometry>
    <sphere radius="0.010"/>
    </geometry>
    </collision>
  </link>
  <joint name="lfmiddle_collision_ball_0_joint" type="fixed">
    <parent link="lfmiddle"/>
    <child link="lfmiddle_collision_ball_0"/>
    <origin rpy="0 0 0" xyz="0.0 0.0 0.0 "/>
  </joint>

  <link name="lfmiddle_collision_ball_1">
    <visual>
    <geometry>
    <sphere radius="0.010"/>
    </geometry>
    <material name="purple">
    <color rgba="1.0 0.0 1.0 1.0"/>
    </material>
    </visual>
    <collision>
    <geometry>
    <sphere radius="0.010"/>
    </geometry>
    </collision>
  </link>
  <joint name="lfmiddle_collision_ball_1_joint" type="fixed">
    <parent link="lfmiddle"/>
    <child link="lfmiddle_collision_ball_1"/>
    <origin rpy="0 0 0" xyz="0.0 0.0 0.015 "/>
  </joint>

  <joint name="LFJ2" type="revolute">
    <parent link="lfproximal"/>
    <child link="lfmiddle"/>
    <origin rpy="0 0 0" xyz="0 0 0.045"/>
    <axis xyz="1 0 0"/>
    <limit effort="2" lower="0" upper="1.57079632679" velocity="2.0"/>
    <dynamics damping="0.1"/>
  </joint>
  <link name="lfdistal">
    <!--    inertial and mass is enlarged by 10 times to fix the position drive issue in Physx simulation, used in IsaacGym and SAPIEN-->
    <inertial>
      <mass value="0.12"/>
      <origin xyz="0 0 0.012"/>
      <inertia ixx="0.0000094" ixy="0.0" ixz="0.0" iyy="0.000011" iyz="0.0" izz="0.0000053"/>
    </inertial>
    <visual>
      <origin rpy="0 0 0" xyz="0 0 0"/>
      <geometry name="lfdistal_visual">
        <mesh filename="meshes/visual/f_distal_pst.obj" scale="0.001 0.001 0.001"/>
      </geometry>
    </visual>
    <collision>
      <origin rpy="0 0 0" xyz="0 0 0"/>
      <geometry name="lfdistal_collision_geom">
        <mesh filename="meshes/collision/f_distal_pst.obj" scale="0.001 0.001 0.001"/>
      </geometry>
    </collision>
  </link>

  <!-- balls -->

  <link name="lfdistal_collision_ball_0">
    <visual>
    <geometry>
    <sphere radius="0.010"/>
    </geometry>
    <material name="purple">
    <color rgba="1.0 0.0 1.0 1.0"/>
    </material>
    </visual>
    <collision>
    <geometry>
    <sphere radius="0.010"/>
    </geometry>
    </collision>
  </link>
  <joint name="lfdistal_collision_ball_0_joint" type="fixed">
    <parent link="lfdistal"/>
    <child link="lfdistal_collision_ball_0"/>
    <origin rpy="0 0 0" xyz="0.0 0.0 0.0 "/>
  </joint>

  <link name="lfdistal_collision_ball_1">
    <visual>
    <geometry>
    <sphere radius="0.010"/>
    </geometry>
    <material name="purple">
    <color rgba="1.0 0.0 1.0 1.0"/>
    </material>
    </visual>
    <collision>
    <geometry>
    <sphere radius="0.010"/>
    </geometry>
    </collision>
  </link>
  <joint name="lfdistal_collision_ball_1_joint" type="fixed">
    <parent link="lfdistal"/>
    <child link="lfdistal_collision_ball_1"/>
    <origin rpy="0 0 0" xyz="0.0 0.0 0.015 "/>
  </joint>

  <link name="lfdistal_collision_ball_2">
    <visual>
    <geometry>
    <sphere radius="0.010"/>
    </geometry>
    <material name="purple">
    <color rgba="1.0 0.0 1.0 1.0"/>
    </material>
    </visual>
    <collision>
    <geometry>
    <sphere radius="0.010"/>
    </geometry>
    </collision>
  </link>
  <joint name="lfdistal_collision_ball_2_joint" type="fixed">
    <parent link="lfdistal"/>
    <child link="lfdistal_collision_ball_2"/>
    <origin rpy="0 0 0" xyz="0.0 0.0 0.025 "/>
  </joint>

  <joint name="LFJ1" type="revolute">
    <parent link="lfmiddle"/>
    <child link="lfdistal"/>
    <origin rpy="0 0 0" xyz="0 0 0.025"/>
    <axis xyz="1 0 0"/>
    <!-- standard distal joint -->
    <limit effort="2" lower="0" upper="1.57079632679" velocity="2.0"/>
    <dynamics damping="0.1"/>
  </joint>
  <link name="lftip">
    <inertial>
      <mass value="0.001"/>
      <inertia ixx="0.0" ixy="0.0" ixz="0.0" iyy="0.0" iyz="0.0" izz="0.0"/>
    </inertial>
  </link>
  <joint name="LFtip" type="fixed">
    <parent link="lfdistal"/>
    <child link="lftip"/>
    <origin rpy="0 0 0" xyz="0 0 0.026"/>
  </joint>
  <link name="thbase">
    <inertial>
      <mass value="0.010"/>
      <origin rpy="0 0 0" xyz="0 0 0"/>
      <inertia ixx="0.00000016" ixy="0.0" ixz="0.0" iyy="0.00000016" iyz="0.0" izz="0.00000016"/>
    </inertial>
    <visual>
      <origin rpy="0 0 0" xyz="0 0 0"/>
      <geometry name="thbase_visual">
        <box size="0.001 0.001 0.001"/>
      </geometry>
    </visual>
    <collision>
      <origin rpy="0 0 0" xyz="0 0 0"/>
      <geometry name="thbase_collision_geom">
        <sphere radius="0.011"/>
      </geometry>
    </collision>
  </link>
  <joint name="THJ5" type="revolute">
    <parent link="palm"/>
    <child link="thbase"/>
    <origin rpy="-0.785398163397 0 -1.57079632679" xyz="0.034 -0.00858 0.029"/>
    <axis xyz="0 0 -1"/>
    <limit effort="5.0" lower="-1.0471975512" upper="1.0471975512" velocity="4.0"/>
    <dynamics damping="0.2"/>
  </joint>
  <link name="thproximal">
    <inertial>
      <mass value="0.040"/>
      <origin rpy="0 0 0" xyz="0 0 0.019"/>
      <inertia ixx="0.0000136" ixy="0.0" ixz="0.0" iyy="0.0000136" iyz="0.0" izz="0.00000313"/>
    </inertial>
    <visual>
      <origin rpy="0 0 1.57079632679" xyz="0 0 0"/>
      <geometry name="thproximal_visual">
        <mesh filename="meshes/visual/th_proximal_E3M5.obj" scale="0.001 0.001 0.001"/>
      </geometry>
    </visual>
    <collision>
      <geometry name="thproximal_collision">
        <mesh filename="meshes/collision/th_proximal_E3M5.obj" scale="0.001 0.001 0.001"/>
      </geometry>
    </collision>
  </link>

  <!-- balls -->

  <link name="thproximal_collision_ball_0">
    <visual>
    <geometry>
    <sphere radius="0.014"/>
    </geometry>
    <material name="purple">
    <color rgba="1.0 0.0 1.0 1.0"/>
    </material>
    </visual>
    <collision>
    <geometry>
    <sphere radius="0.014"/>
    </geometry>
    </collision>
  </link>
  <joint name="thproximal_collision_ball_0_joint" type="fixed">
    <parent link="thproximal"/>
    <child link="thproximal_collision_ball_0"/>
    <origin rpy="0 0 0" xyz="0.0 0.0 0.0 "/>
  </joint>

  <link name="thproximal_collision_ball_1">
    <visual>
    <geometry>
    <sphere radius="0.013"/>
    </geometry>
    <material name="purple">
    <color rgba="1.0 0.0 1.0 1.0"/>
    </material>
    </visual>
    <collision>
    <geometry>
    <sphere radius="0.013"/>
    </geometry>
    </collision>
  </link>
  <joint name="thproximal_collision_ball_1_joint" type="fixed">
    <parent link="thproximal"/>
    <child link="thproximal_collision_ball_1"/>
    <origin rpy="0 0 0" xyz="0.0 0.0 0.015 "/>
  </joint>

  <joint name="THJ4" type="revolute">
    <parent link="thbase"/>
    <child link="thproximal"/>
    <origin rpy="0 0 0" xyz="0 0 0"/>
    <axis xyz="0 1 0"/>
    <limit effort="3" lower="0.0" upper="1.2217304764" velocity="4.0"/>
    <dynamics damping="0.2"/>
  </joint>
  <link name="thhub">
    <inertial>
      <mass value="0.005"/>
      <origin rpy="0 0 0" xyz="0 0 0"/>
      <inertia ixx="0.000001" ixy="0.0" ixz="0.0" iyy="0.000001" iyz="0.0" izz="0.0000003"/>
    </inertial>
    <collision>
      <origin rpy="0 0 0" xyz="0 0 0"/>
      <geometry name="thhub_collision_geom">
        <sphere radius="0.010"/>
      </geometry>
    </collision>
  </link>
  <joint name="THJ3" type="revolute">
    <parent link="thproximal"/>
    <child link="thhub"/>
    <origin rpy="0 0 0" xyz="0 0 0.038"/>
    <axis xyz="0 1 0"/>
    <limit effort="2.0" lower="-0.209439510239" upper="0.209439510239" velocity="4.0"/>
    <dynamics damping="0.2"/>
  </joint>
  <link name="thmiddle">
    <inertial>
      <mass value="0.020"/>
      <origin rpy="0 0 0" xyz="0 0 0.016"/>
      <inertia ixx="0.0000051" ixy="0.0" ixz="0.0" iyy="0.0000051" iyz="0.0" izz="0.00000121"/>
    </inertial>
    <visual>
      <origin rpy="0 0 1.57079632679" xyz="0 0 0"/>
      <geometry name="thmiddle_visual">
        <mesh filename="meshes/visual/th_middle_E3M5.obj" scale="0.001 0.001 0.001"/>
      </geometry>
    </visual>
    <collision>
      <geometry name="thmiddle_collision">
        <mesh filename="meshes/collision/th_middle_E3M5.obj" scale="0.001 0.001 0.001"/>
      </geometry>
    </collision>
  </link>

  <!-- balls -->

  <link name="thmiddle_collision_ball_0">
    <visual>
    <geometry>
    <sphere radius="0.011"/>
    </geometry>
    <material name="purple">
    <color rgba="1.0 0.0 1.0 1.0"/>
    </material>
    </visual>
    <collision>
    <geometry>
    <sphere radius="0.011"/>
    </geometry>
    </collision>
  </link>
  <joint name="thmiddle_collision_ball_0_joint" type="fixed">
    <parent link="thmiddle"/>
    <child link="thmiddle_collision_ball_0"/>
    <origin rpy="0 0 0" xyz="0.0 0.0 0.0 "/>
  </joint>

  <link name="thmiddle_collision_ball_1">
    <visual>
    <geometry>
    <sphere radius="0.0105"/>
    </geometry>
    <material name="purple">
    <color rgba="1.0 0.0 1.0 1.0"/>
    </material>
    </visual>
    <collision>
    <geometry>
    <sphere radius="0.0105"/>
    </geometry>
    </collision>
  </link>
  <joint name="thmiddle_collision_ball_1_joint" type="fixed">
    <parent link="thmiddle"/>
    <child link="thmiddle_collision_ball_1"/>
    <origin rpy="0 0 0" xyz="0.0 0.0 0.015 "/>
  </joint>

  <joint name="THJ2" type="revolute">
    <parent link="thhub"/>
    <child link="thmiddle"/>
    <origin rpy="0 0 0" xyz="0 0 0"/>
    <axis xyz="1 0 0"/>
    <limit effort="2.0" lower="-0.698131700798" upper="0.698131700798" velocity="2.0"/>
    <dynamics damping="0.1"/>
  </joint>
  <!-- common -->
  <link name="thdistal">
    <!--    inertial and mass is enlarged by 10 times to fix the position drive issue in Physx simulation, used in IsaacGym and SAPIEN-->
    <inertial>
      <mass value="0.16"/>
      <origin rpy="0 0 0" xyz="0 0 0.01375"/>
      <inertia ixx="0.000021" ixy="0.0" ixz="0.0" iyy="0.000022" iyz="0.0" izz="0.00001"/>
    </inertial>
    <visual>
      <origin rpy="0 0 0" xyz="0 0 0"/>
      <geometry name="thdistal_visual">
        <mesh filename="meshes/visual/th_distal_pst.obj" scale="0.001 0.001 0.001"/>
      </geometry>
    </visual>
    <collision>
      <origin rpy="0 0 0" xyz="0 0 0"/>
      <geometry name="thmiddle_collision_geom">
        <mesh filename="meshes/visual/th_distal_pst.obj" scale="0.001 0.001 0.001"/>
      </geometry>
    </collision>
  </link>

  <!-- balls -->

  <link name="thdistal_collision_ball_0">
    <visual>
    <geometry>
    <sphere radius="0.0105"/>
    </geometry>
    <material name="purple">
    <color rgba="1.0 0.0 1.0 1.0"/>
    </material>
    </visual>
    <collision>
    <geometry>
    <sphere radius="0.0105"/>
    </geometry>
    </collision>
  </link>
  <joint name="thdistal_collision_ball_0_joint" type="fixed">
    <parent link="thdistal"/>
    <child link="thdistal_collision_ball_0"/>
    <origin rpy="0 0 0" xyz="0.0 0.0 0.0 "/>
  </joint>

  <link name="thdistal_collision_ball_1">
    <visual>
    <geometry>
    <sphere radius="0.0105"/>
    </geometry>
    <material name="purple">
    <color rgba="1.0 0.0 1.0 1.0"/>
    </material>
    </visual>
    <collision>
    <geometry>
    <sphere radius="0.0105"/>
    </geometry>
    </collision>
  </link>
  <joint name="thdistal_collision_ball_1_joint" type="fixed">
    <parent link="thdistal"/>
    <child link="thdistal_collision_ball_1"/>
    <origin rpy="0 0 0" xyz="0.0 0.0 0.015 "/>
  </joint>

  <link name="thdistal_collision_ball_2">
    <visual>
    <geometry>
    <sphere radius="0.0105"/>
    </geometry>
    <material name="purple">
    <color rgba="1.0 0.0 1.0 1.0"/>
    </material>
    </visual>
    <collision>
    <geometry>
    <sphere radius="0.0105"/>
    </geometry>
    </collision>
  </link>
  <joint name="thdistal_collision_ball_2_joint" type="fixed">
    <parent link="thdistal"/>
    <child link="thdistal_collision_ball_2"/>
    <origin rpy="0 0 0" xyz="0.0 0.0 0.025 "/>
  </joint>

  <joint name="THJ1" type="revolute">
    <parent link="thmiddle"/>
    <child link="thdistal"/>
    <origin rpy="0 0 0" xyz="0 0 0.032"/>
    <axis xyz="1 0 0"/>
    <limit effort="1.0" lower="-0.261799387799" upper="1.57079632679" velocity="4.0"/>
    <dynamics damping="0.2"/>
  </joint>
  <link name="thtip">
    <inertial>
      <mass value="0.001"/>
      <inertia ixx="0.0" ixy="0.0" ixz="0.0" iyy="0.0" iyz="0.0" izz="0.0"/>
    </inertial>
  </link>
  <joint name="THtip" type="fixed">
    <parent link="thdistal"/>
    <child link="thtip"/>
    <origin rpy="0 0 0" xyz="0 0 0.0275"/>
  </joint>
</robot>
